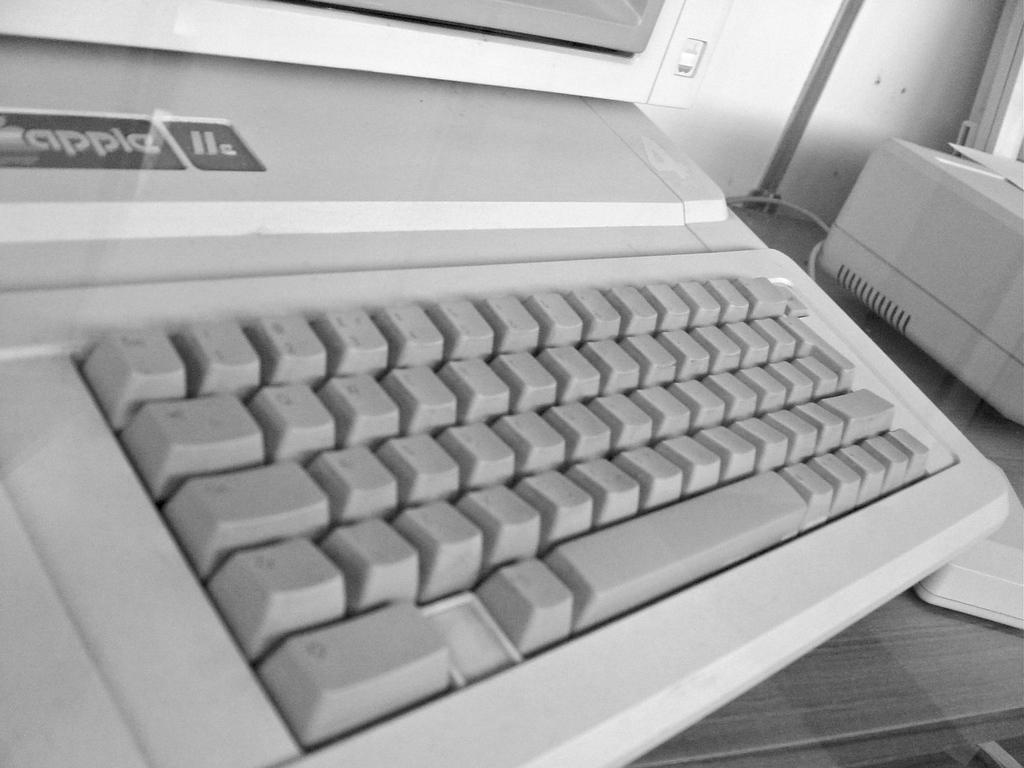Computer-keyboard: (1, 38, 1012, 767)
